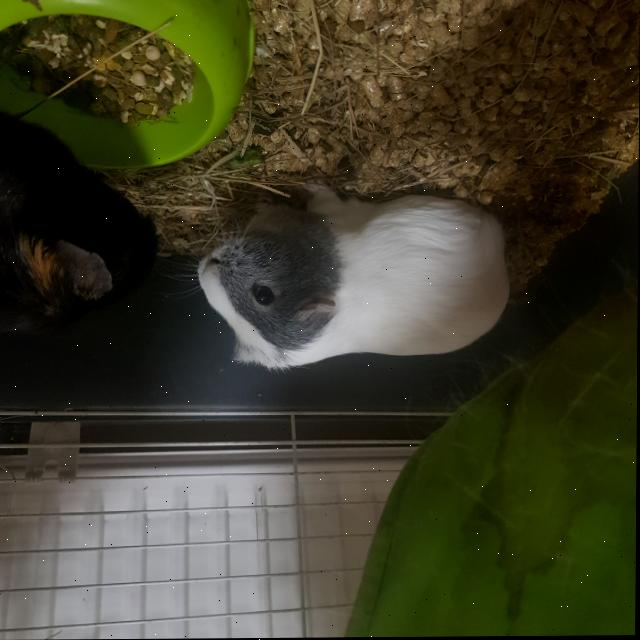guinea pig: (194, 174, 516, 373), (0, 113, 166, 344)
